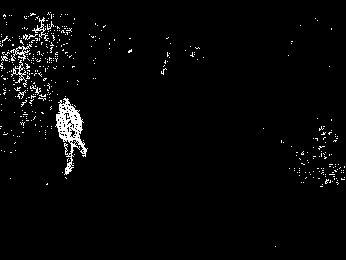person: (56, 96, 88, 175)
